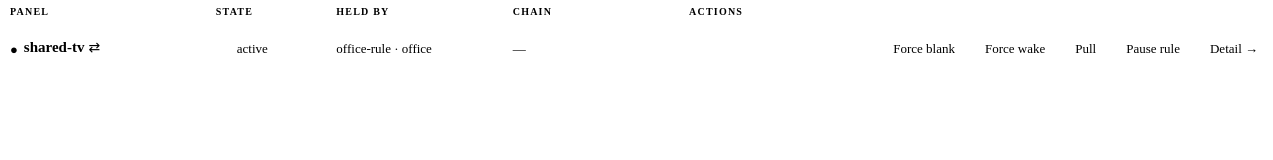
Scenario: Displays › surfaces a failed switch as an error
Click the button "Pull": (1086, 48) [1063,35,1108,62]
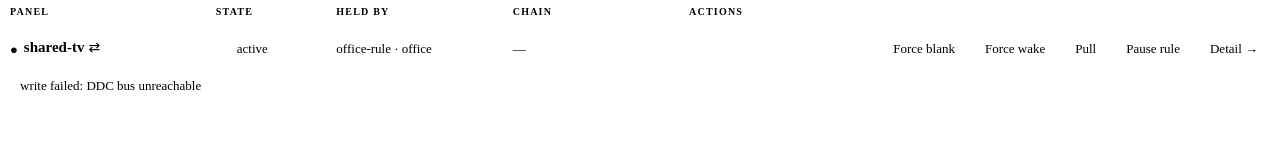
Expected: the text "write failed: DDC bus unreachable" is shown, [20,78,201,93]
